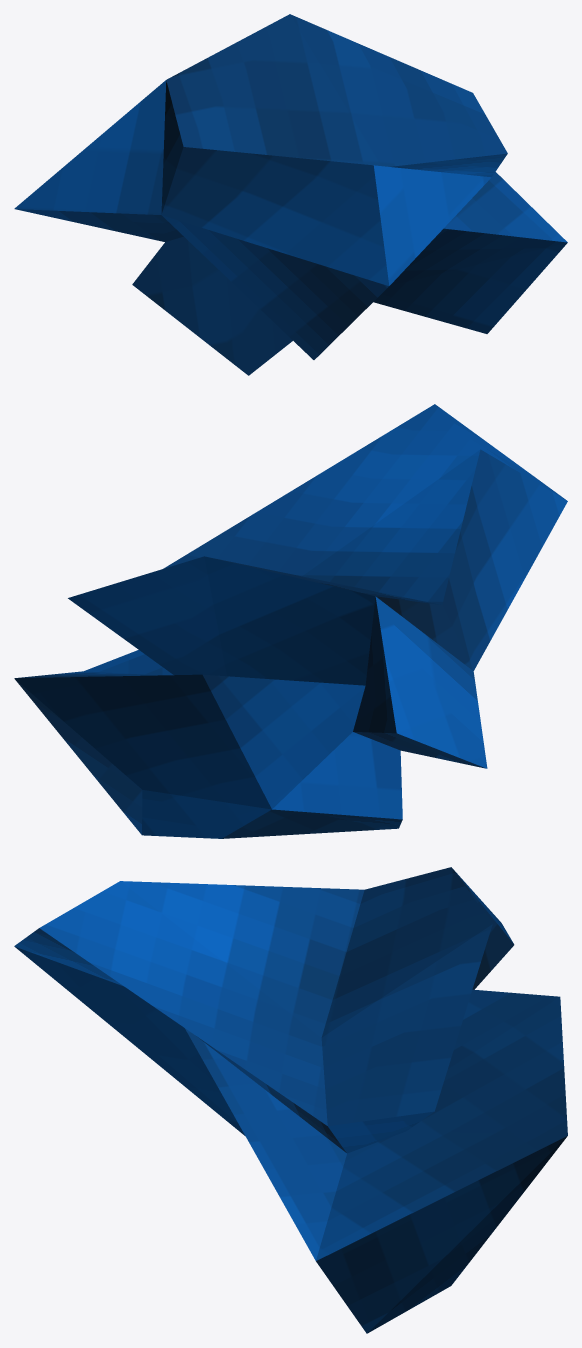
File: asteroid_small1.fbx
The picture shows the model from 3 angles, top to bottom: view 1: azimuth 30°, elevation 25°; view 2: azimuth 150°, elevation 25°; view 3: azimuth 270°, elevation 25°; orthographic projection. The views are drawn at different scales.
Visible parts, largest first — view 1: Cube; view 2: Cube; view 3: Cube.
Part boxes in pixels (x1=…): Cube: x1=14, y1=14, x2=567, y2=375; Cube: x1=14, y1=404, x2=567, y2=838; Cube: x1=14, y1=867, x2=567, y2=1333.
Size of the model in its own units: 3.36 by 2.14 by 3.19.
